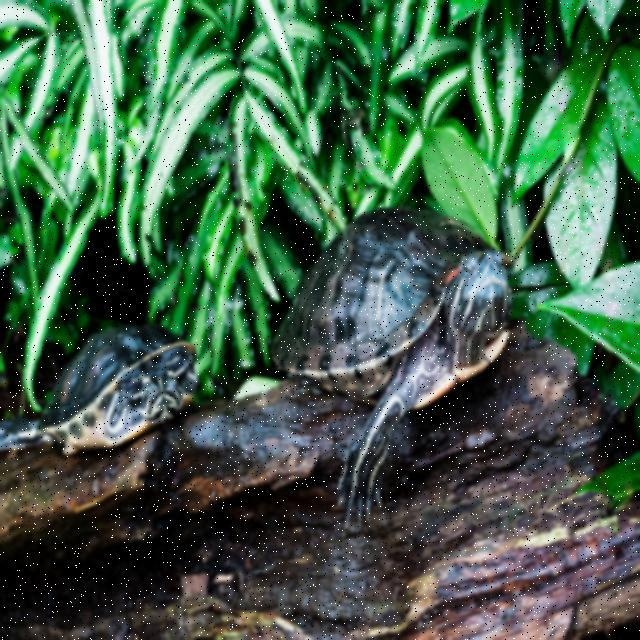tortoise: (278, 201, 520, 423), (31, 330, 210, 450)
